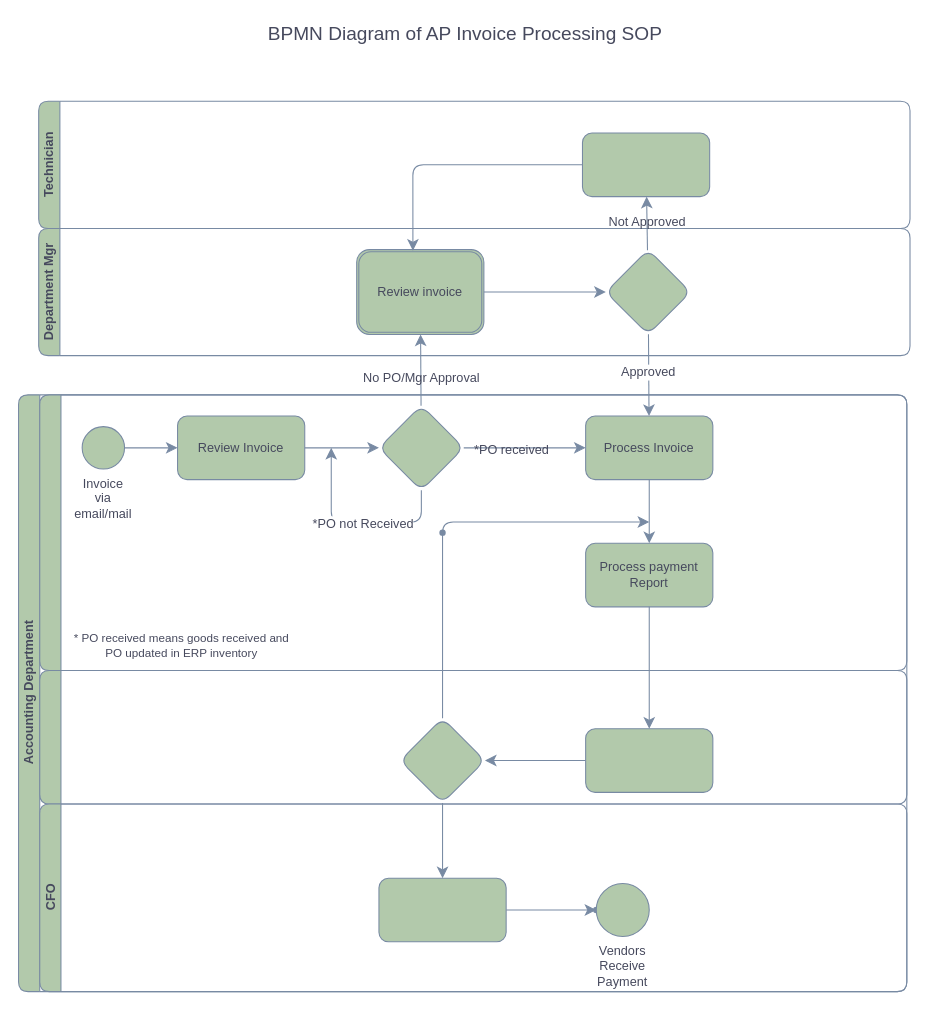
Image size: 929x1010. Some labels were removed from this diagram. Each missing label, with the box of its shape:
AP Clerk: (39, 394, 907, 670)
Controller: (39, 669, 907, 804)
Release payment: (378, 877, 506, 942)
Review payment report: (585, 728, 713, 792)
Verify work is complete: (581, 132, 710, 197)
